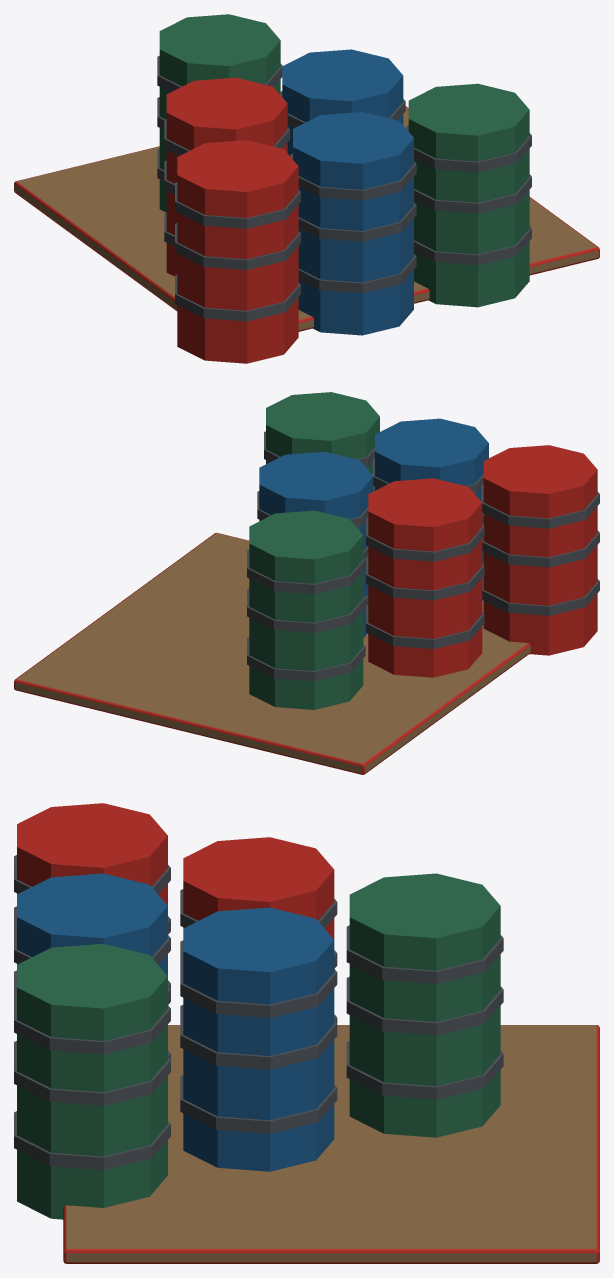
The model's file is prp_barrels.glb.
3 renders of one model, top to bottom at view 1: azimuth 30°, elevation 25°; view 2: azimuth 150°, elevation 25°; view 3: azimuth 270°, elevation 25°, orthographic. The views are drawn at different scales.
Parts seen in each view (by area): view 1: prp_barrels; view 2: prp_barrels; view 3: prp_barrels.
Boxes of the visible parts, box(x1,y1,x2,y2) form: prp_barrels: box(14, 14, 599, 363); prp_barrels: box(14, 392, 599, 774); prp_barrels: box(14, 803, 599, 1263).
Bounding box in the file's own units: 2.2 × 0.88 × 2.18.
